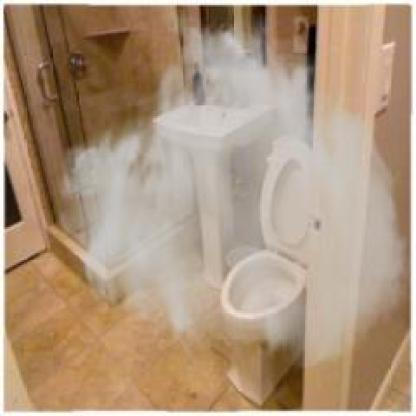Smoke: (55, 3, 414, 371)
